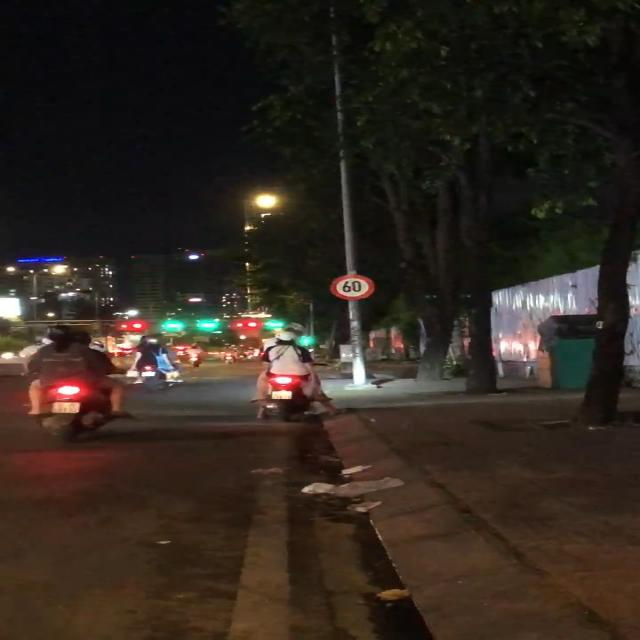Bien bao toc do toi da cho phep: (320, 263, 387, 308)
